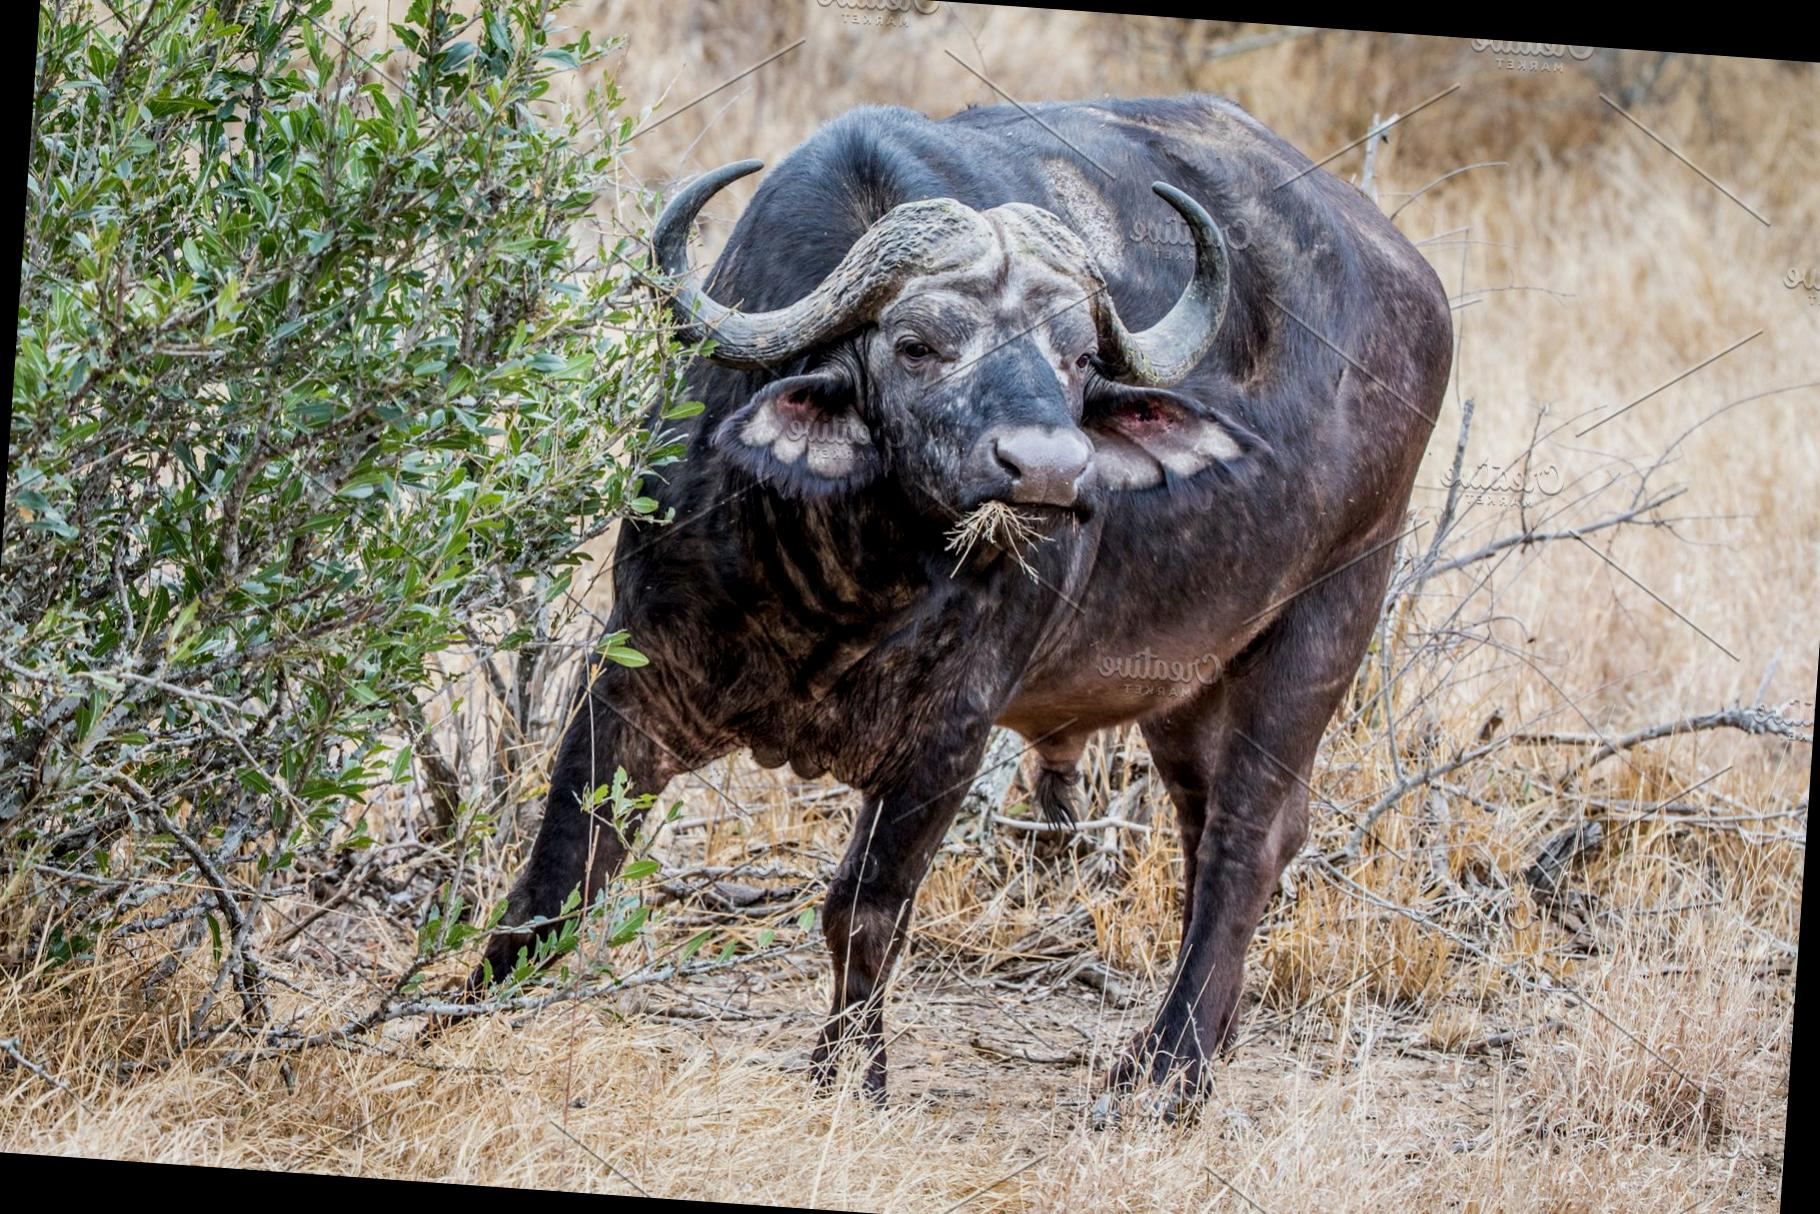Buffalo: (139, 0, 1649, 1104)
